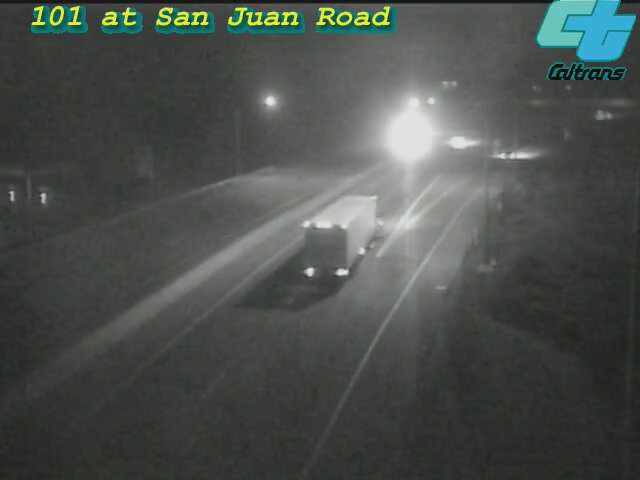vehicle: (303, 208, 383, 288), (387, 110, 437, 160), (576, 90, 626, 140), (433, 118, 483, 168), (481, 131, 531, 181)
